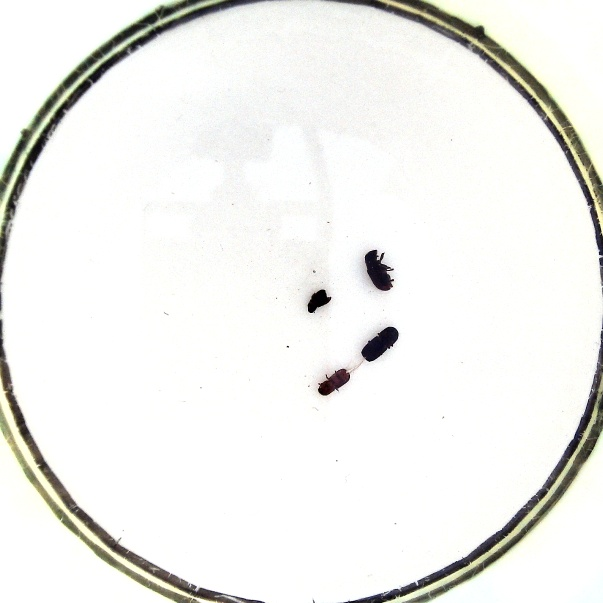acuminatus: (317, 366, 353, 398)
armandi: (362, 247, 393, 293)
coleoptera: (305, 288, 333, 315)
linnaeus: (359, 325, 400, 363)
